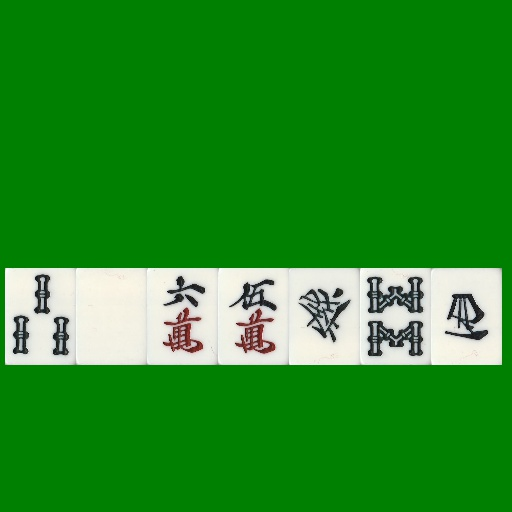3s: (5, 268, 76, 365)
5m: (218, 268, 289, 365)
6m: (147, 268, 218, 365)
8s: (360, 268, 431, 365)
hatsu: (289, 268, 360, 365)
west: (431, 268, 502, 365)
white: (76, 268, 147, 365)
